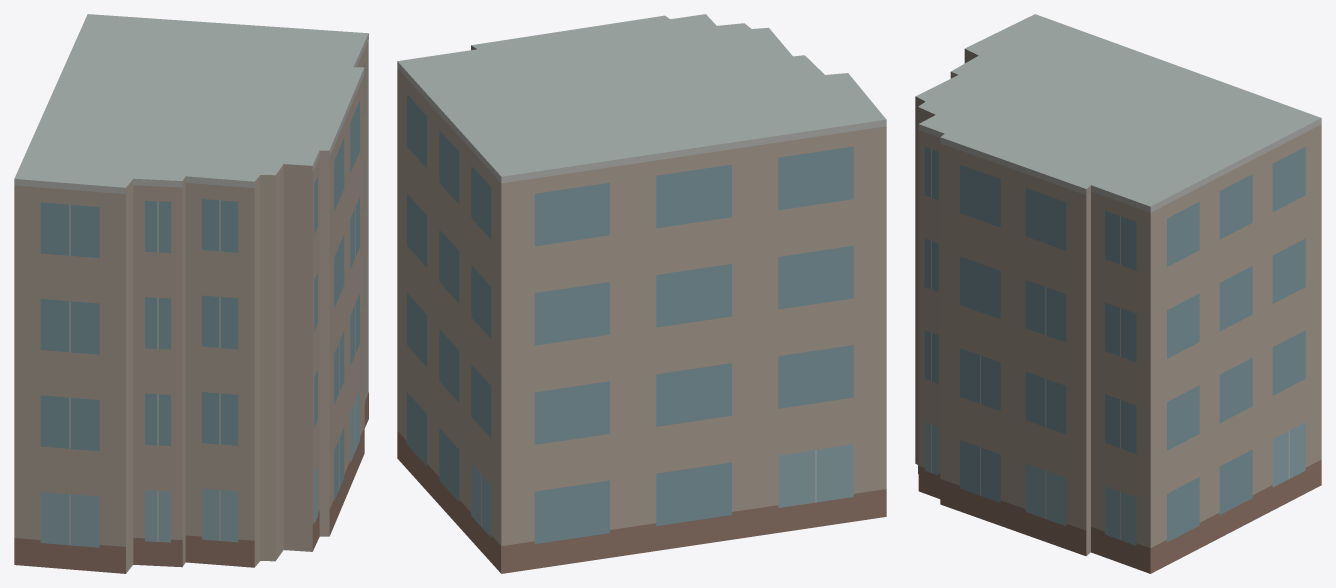
The model's file is survey-upis-32949055.glb.
The picture shows the model from 3 angles, left to right: view 1: azimuth 30°, elevation 25°; view 2: azimuth 150°, elevation 25°; view 3: azimuth 270°, elevation 25°; orthographic projection. The views are drawn at different scales.
Visible parts, largest first — view 1: survey-upis-32949055.tmp; view 2: survey-upis-32949055.tmp; view 3: survey-upis-32949055.tmp.
Part boxes in pixels (left/top/right/bottom): survey-upis-32949055.tmp: left=14, top=14, right=368, bottom=573; survey-upis-32949055.tmp: left=397, top=14, right=886, bottom=573; survey-upis-32949055.tmp: left=915, top=14, right=1321, bottom=573.
Size of the model in its own units: 16.46 by 14.62 by 14.66.
